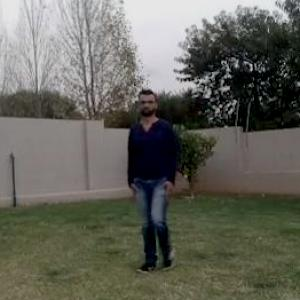follow: (133, 94, 175, 260)
